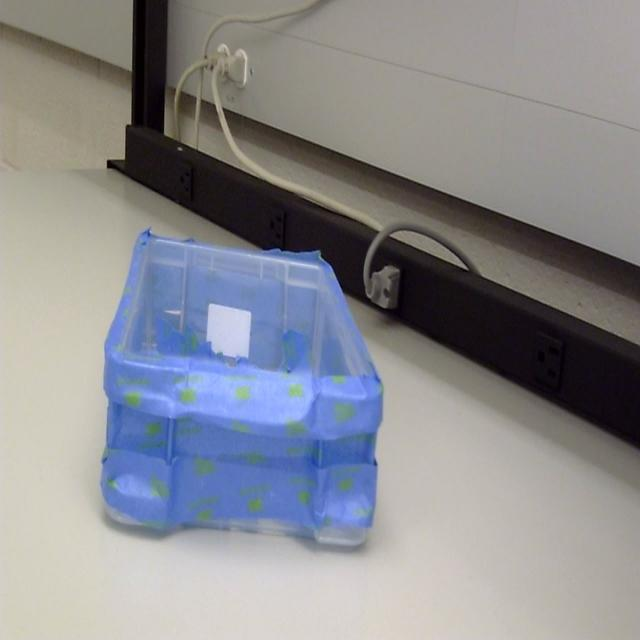bucket: (99, 230, 384, 554)
